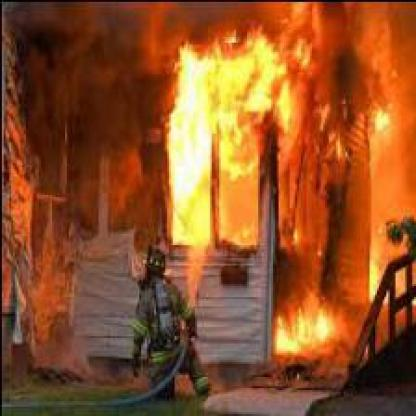Fire: (158, 0, 400, 348)
Smoke: (16, 0, 150, 161)
